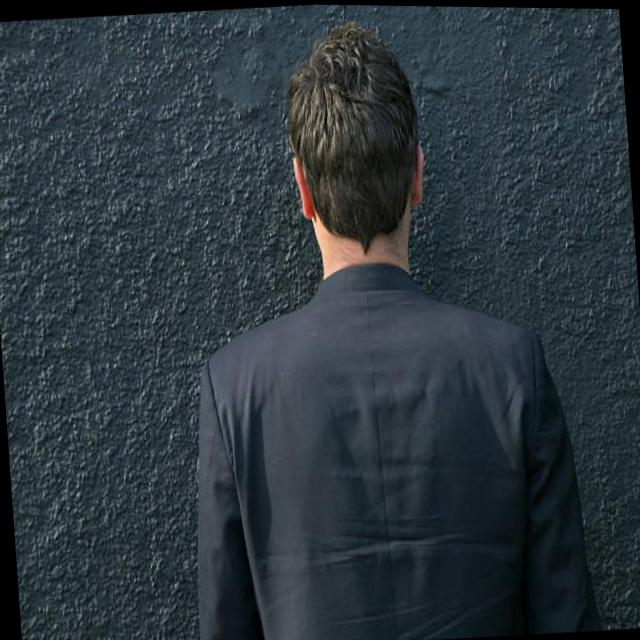no helmet: (284, 19, 436, 271)
